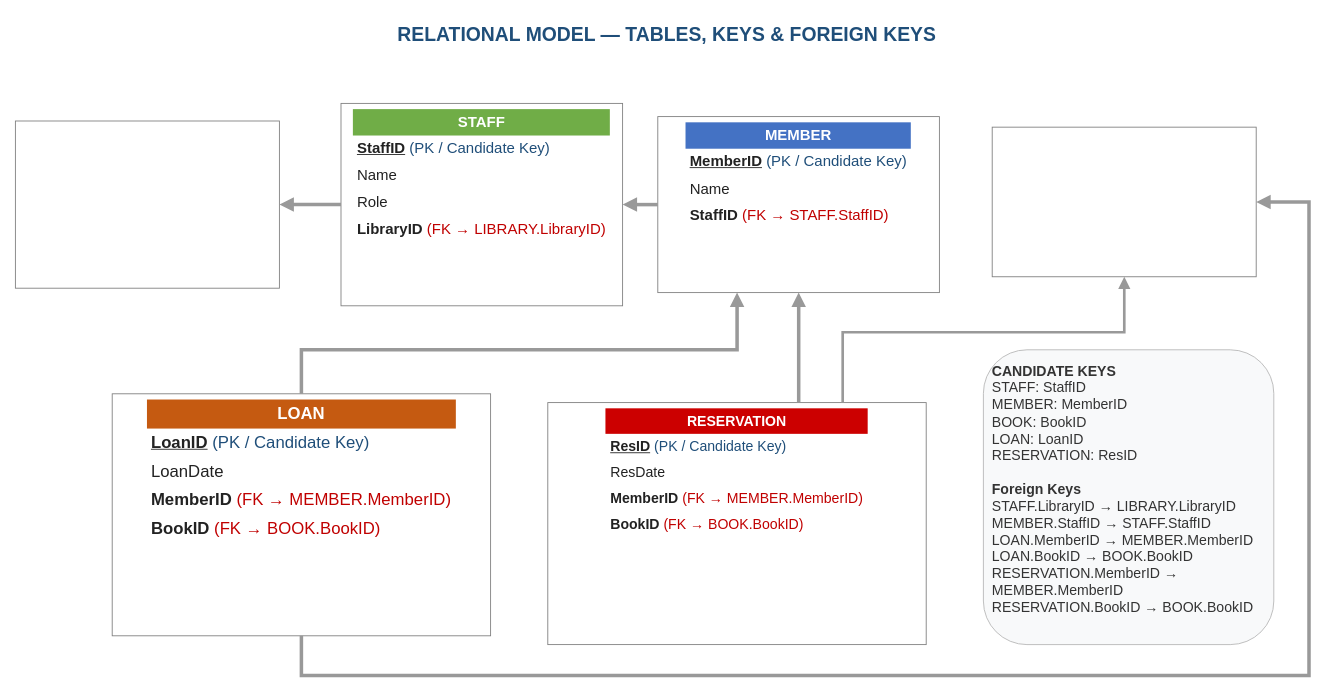
Some shapes in this 1333 by 699 pixel diagram are drawn without their labels. Each missing label, with the centre of its shape:
"BOOK BookID (PK / Candidate Key)" belongs at (1123,201).
"LIBRARY LibraryID (PK / Candidate Key) Name Address" belongs at (147,204).
